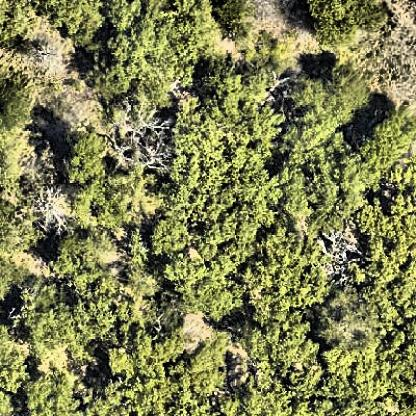tree-top: (174, 128, 273, 253), (274, 125, 366, 233), (247, 223, 328, 317), (98, 7, 177, 103), (61, 131, 140, 226), (357, 188, 416, 313), (15, 275, 86, 363), (283, 63, 367, 137), (320, 341, 401, 413), (168, 251, 247, 323), (241, 308, 315, 382), (107, 104, 177, 169), (303, 1, 397, 48), (314, 288, 378, 356), (101, 324, 175, 378), (356, 108, 416, 172), (199, 61, 258, 126), (53, 235, 109, 292), (184, 335, 230, 396), (46, 3, 107, 49), (220, 382, 301, 416), (126, 367, 187, 412), (214, 1, 262, 53), (23, 371, 77, 416), (148, 215, 201, 260), (1, 2, 43, 53), (1, 68, 34, 132), (1, 203, 39, 249), (1, 329, 28, 390)
